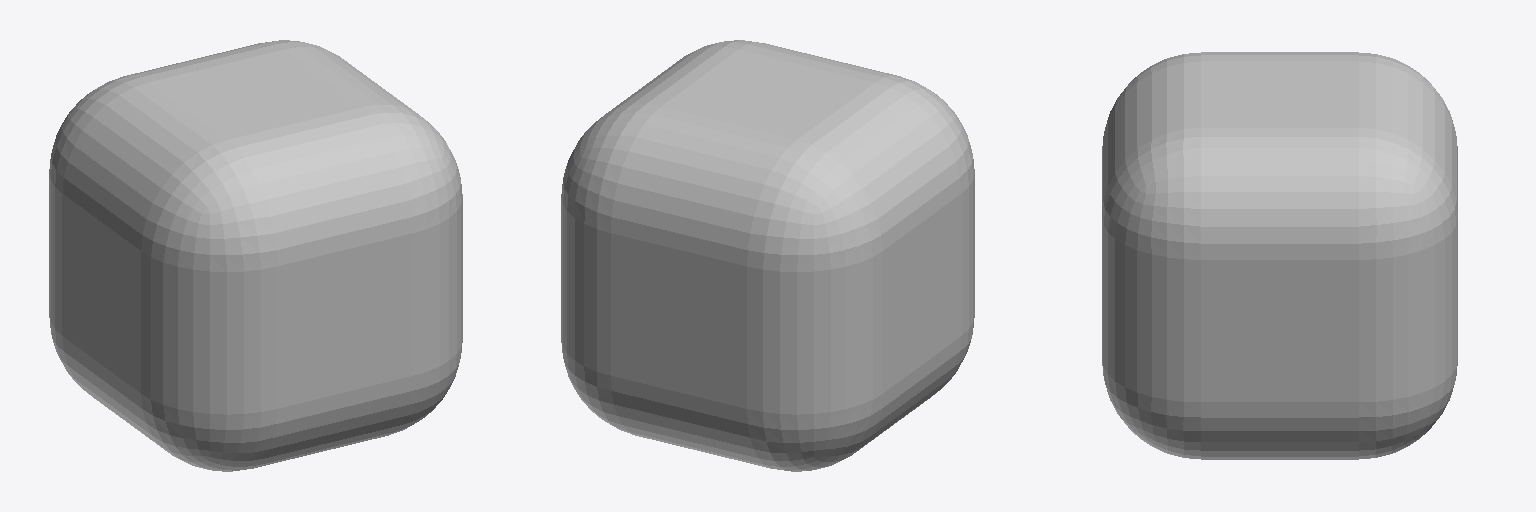
The model's file is brick_guy_ball3.obj.
3 renders of one model, left to right at view 1: azimuth 30°, elevation 25°; view 2: azimuth 150°, elevation 25°; view 3: azimuth 270°, elevation 25°, orthographic.
Visible parts, largest first — view 1: Cube; view 2: Cube; view 3: Cube.
Boxes of the visible parts, <box> form: Cube: <box>49,40,462,471</box>; Cube: <box>561,40,974,471</box>; Cube: <box>1102,52,1457,459</box>.
Size of the model in its own units: 2 by 2 by 2.